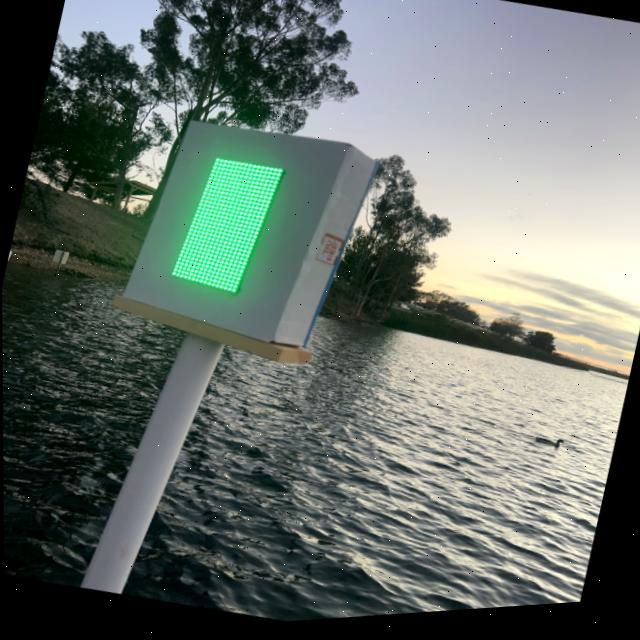led: (156, 136, 313, 331)
